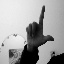l: (24, 4, 56, 49)
